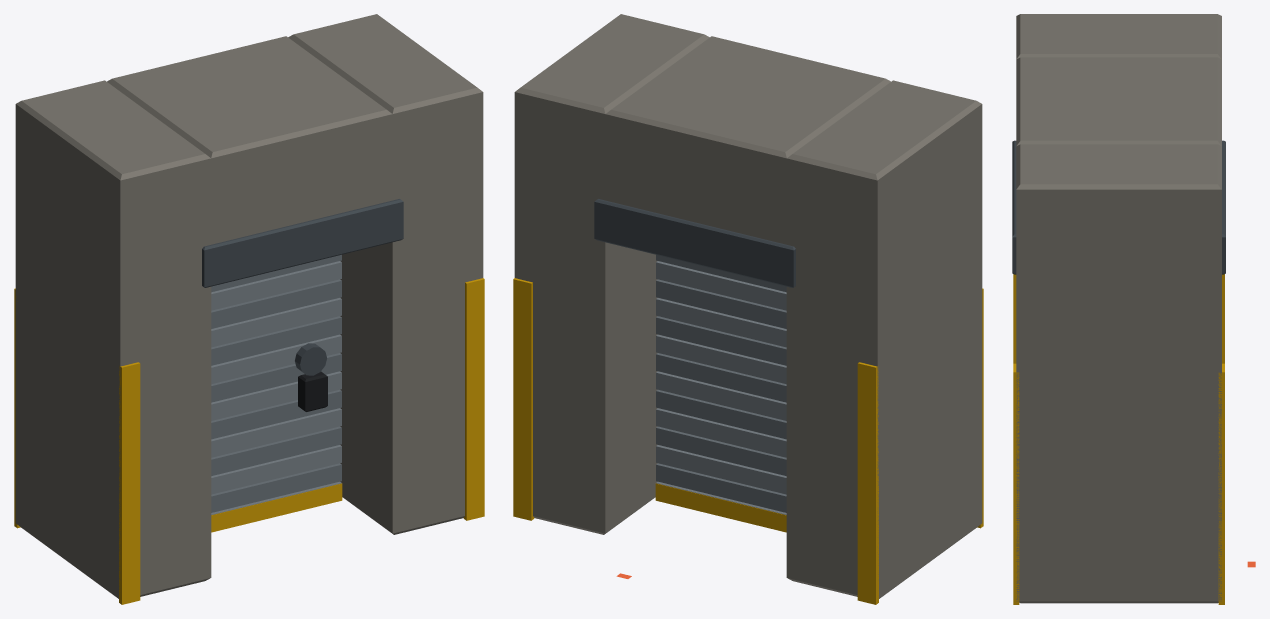
File: door_locked.fbx
3 renders of one model, left to right at view 1: azimuth 30°, elevation 25°; view 2: azimuth 150°, elevation 25°; view 3: azimuth 270°, elevation 25°, orthographic.
Parts seen in each view (by area): view 1: door_locked, Door, Lock; view 2: door_locked, Door; view 3: door_locked.
Part boxes in pixels (x1,y1,x2,y2): door_locked: [14, 14, 484, 604]; Door: [211, 254, 342, 532]; Lock: [295, 343, 327, 411]; door_locked: [513, 14, 983, 604]; Door: [655, 254, 786, 532]; door_locked: [1012, 14, 1225, 604].
Size of the model in its own units: 4 by 4.7 by 2.37.
